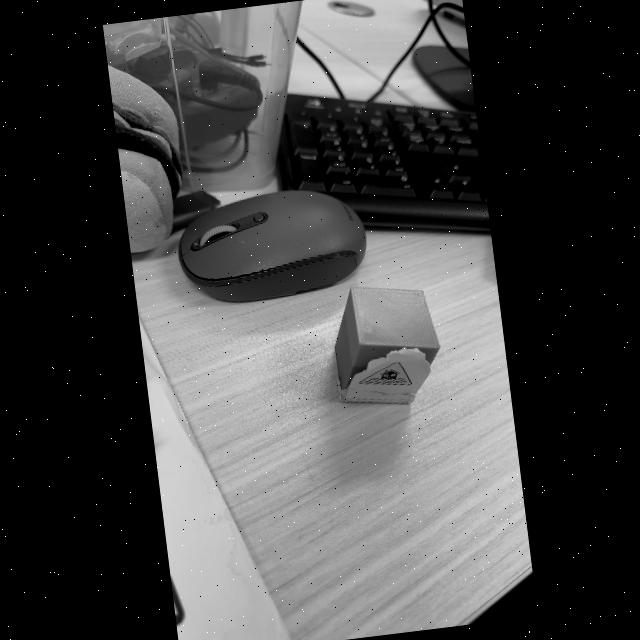Tsunami: (359, 362, 411, 386)
